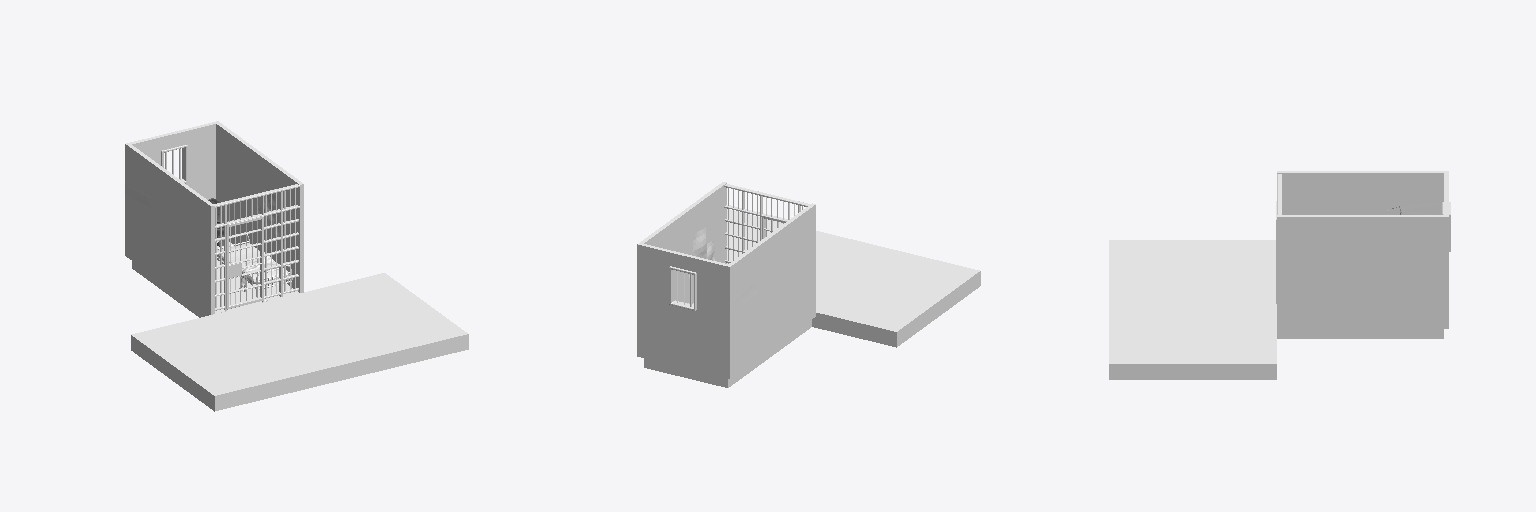
Rendered from Prison.obj.
3 views of the same model, side by side, from view 1: azimuth 30°, elevation 25°; view 2: azimuth 150°, elevation 25°; view 3: azimuth 270°, elevation 25° (orthographic).
Visible parts, largest first — view 1: sol3_Mesh.030, mur9_Mesh.127, mur6_Mesh.100, mur5_Mesh.101, sol2_Mesh.099, contour_porte_cellule1_Mesh.012, matelas1_Mesh.056; view 2: sol3_Mesh.030, mur9_Mesh.127, mur5_Mesh.101, mur6_Mesh.100, sol2_Mesh.099; view 3: sol3_Mesh.030, mur6_Mesh.100, mur9_Mesh.127, sol2_Mesh.099.
Part boxes in pixels (x1,y1,x2,y2): sol3_Mesh.030: (131,273,468,411); mur9_Mesh.127: (125,143,214,315); mur6_Mesh.100: (215,121,303,292); mur5_Mesh.101: (130,122,215,199); sol2_Mesh.099: (132,242,298,317); contour_porte_cellule1_Mesh.012: (226,216,263,309); matelas1_Mesh.056: (217,243,289,283); sol3_Mesh.030: (727,209,980,347); mur9_Mesh.127: (726,203,815,378); mur5_Mesh.101: (641,244,727,377); mur6_Mesh.100: (637,182,726,356); sol2_Mesh.099: (644,320,811,387); sol3_Mesh.030: (1109,240,1276,379); mur6_Mesh.100: (1277,215,1448,328); mur9_Mesh.127: (1277,171,1448,214); sol2_Mesh.099: (1277,329,1443,338).
Bounding box in the file's own units: 21 × 9.78 × 24.5.